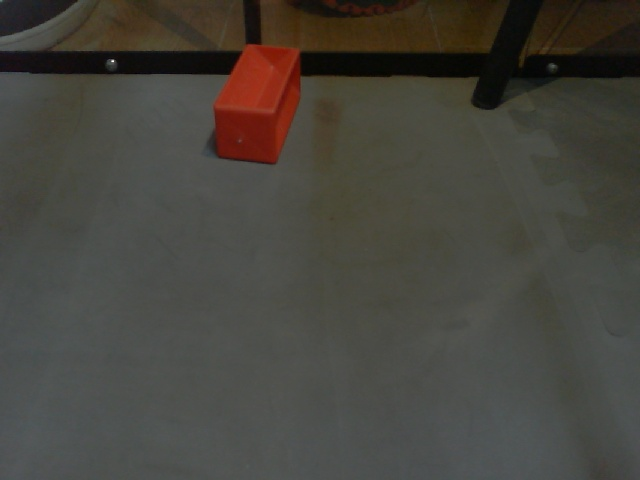RedSample: (209, 42, 304, 165)
